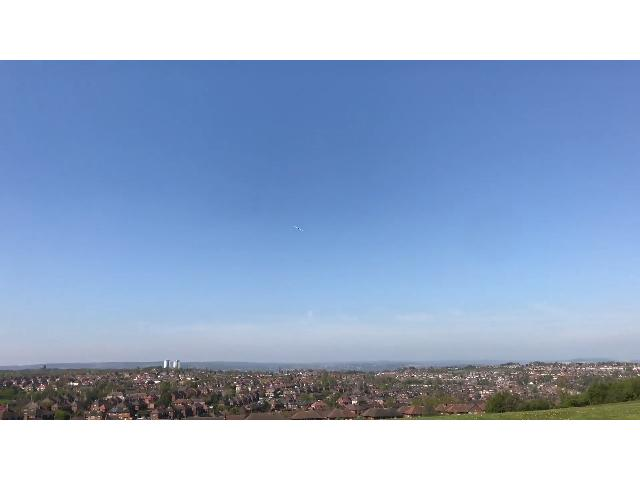Anti-Drone: (290, 220, 308, 238)
